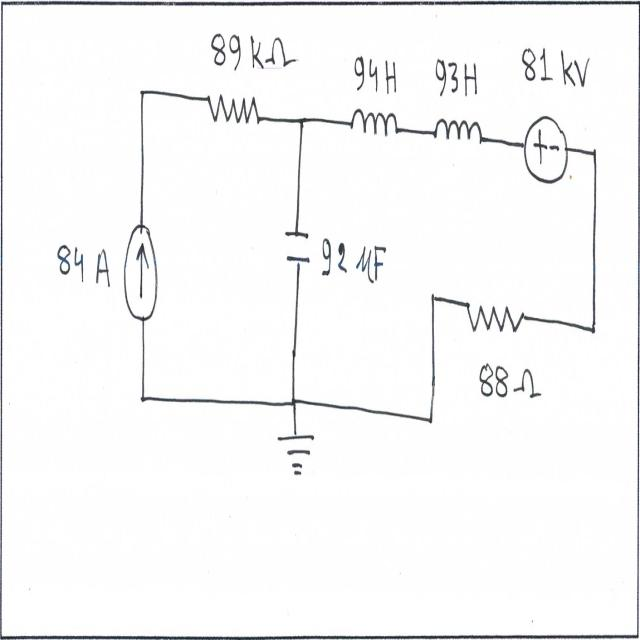capacitor: (281, 222, 317, 278)
current_source: (122, 217, 160, 331)
ground: (271, 427, 321, 481)
inductor: (348, 96, 401, 153), (427, 111, 490, 156)
resistor: (207, 81, 264, 142), (460, 293, 532, 340)
voltage_source: (518, 112, 574, 191)
